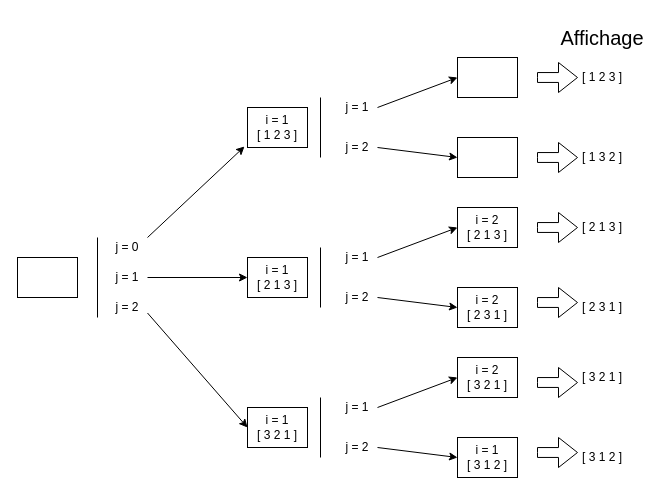
The diagram is 670 pixels wide and 495 high, and some of its shapes have lost their labels. Each missing label, with the box of its shape:
i = 0 [ 1 2 3 ]: (16, 256, 78, 298)
i = 2 [ 1 2 3 ]: (456, 56, 518, 98)
i = 2 [ 1 3 2 ]: (456, 136, 518, 178)
